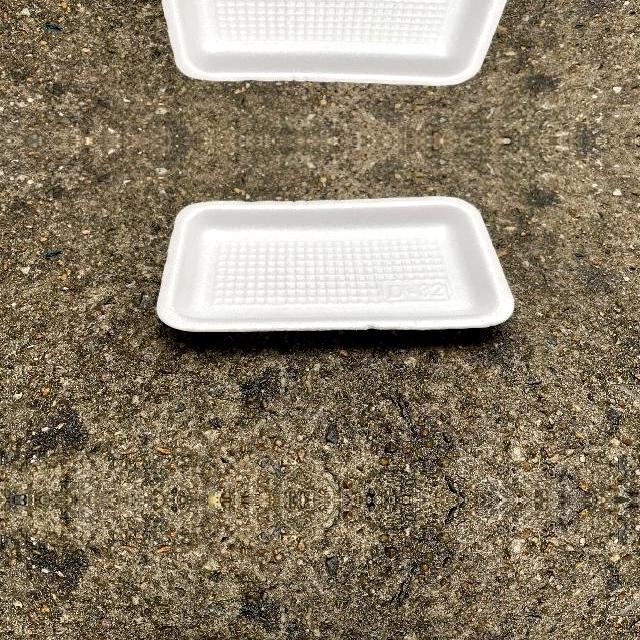Styrofoam: (156, 194, 514, 332), (156, 195, 515, 331), (156, 0, 514, 86), (161, 0, 508, 85)
